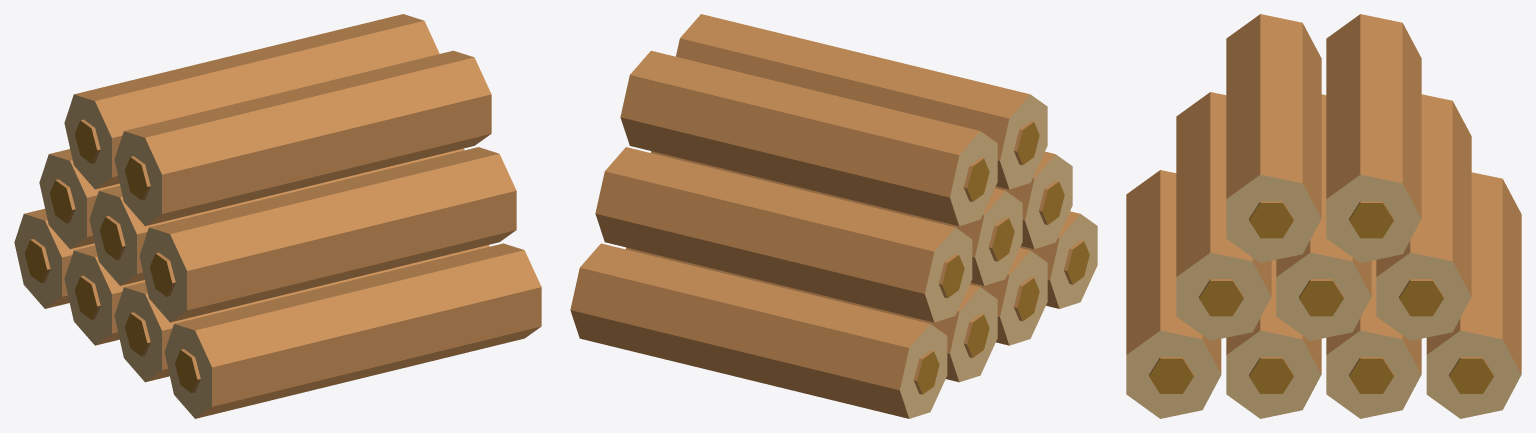
Rendered from woodcutter_l1_fill.fbx.
3 views of the same model, side by side, from view 1: azimuth 30°, elevation 25°; view 2: azimuth 150°, elevation 25°; view 3: azimuth 270°, elevation 25° (orthographic).
Parts seen in each view (by area): view 1: Fill_logs_3, Fill_logs_1, Fill_logs_2; view 2: Fill_logs_3, Fill_logs_1, Fill_logs_2; view 3: Fill_logs_1, Fill_logs_3, Fill_logs_2.
Part boxes in pixels (<box>): Fill_logs_3: <box>64,14,491,225</box>; Fill_logs_1: <box>14,208,541,418</box>; Fill_logs_2: <box>39,147,516,322</box>; Fill_logs_3: <box>620,14,1047,226</box>; Fill_logs_1: <box>570,211,1097,418</box>; Fill_logs_2: <box>595,147,1072,322</box>; Fill_logs_1: <box>1126,170,1521,418</box>; Fill_logs_3: <box>1226,14,1421,262</box>; Fill_logs_2: <box>1176,92,1471,340</box>.
Size of the model in its own units: 0.2328 by 0.1617 by 0.237.
